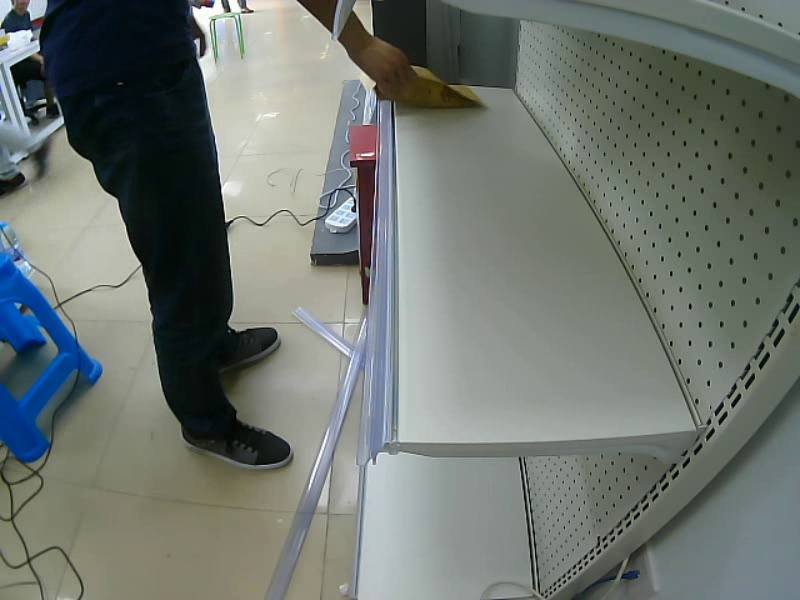bld069: (366, 60, 480, 109)
